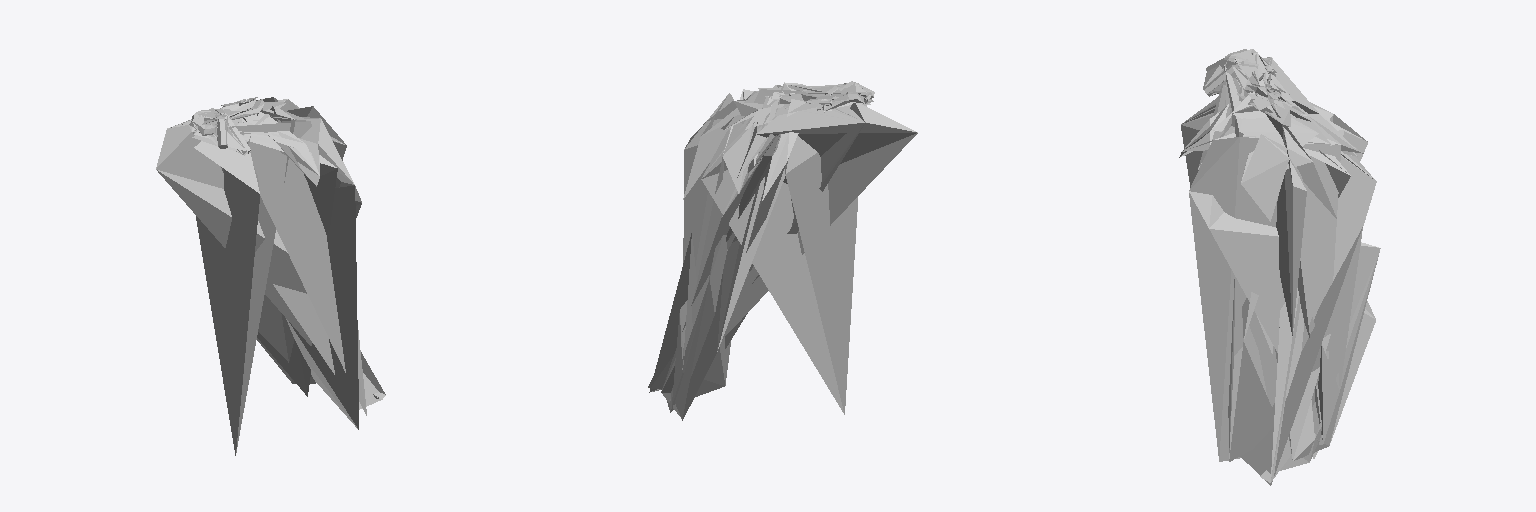
Rendered from bulto_SM_SimpleFabricSack_OBJ.obj.
The picture shows the model from 3 angles: view 1: azimuth 30°, elevation 25°; view 2: azimuth 150°, elevation 25°; view 3: azimuth 270°, elevation 25°; orthographic projection.
Visible parts, largest first — view 1: Object003, default001; view 2: Object003; view 3: Object003.
Boxes of the visible parts, <box> form: Object003: <box>156,97,385,455</box>; default001: <box>189,109,250,155</box>; Object003: <box>648,82,917,420</box>; Object003: <box>1179,49,1380,485</box>.
Size of the model in its own units: 42.29 by 55.01 by 29.46.